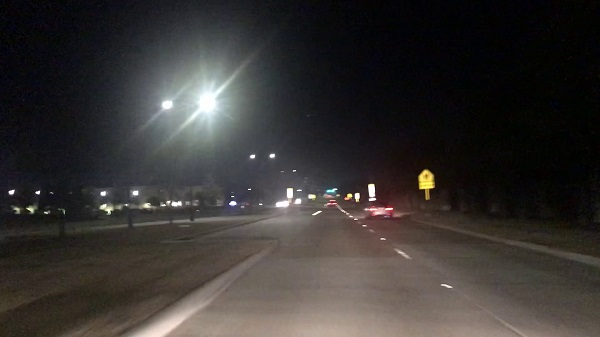car: (362, 198, 394, 218)
